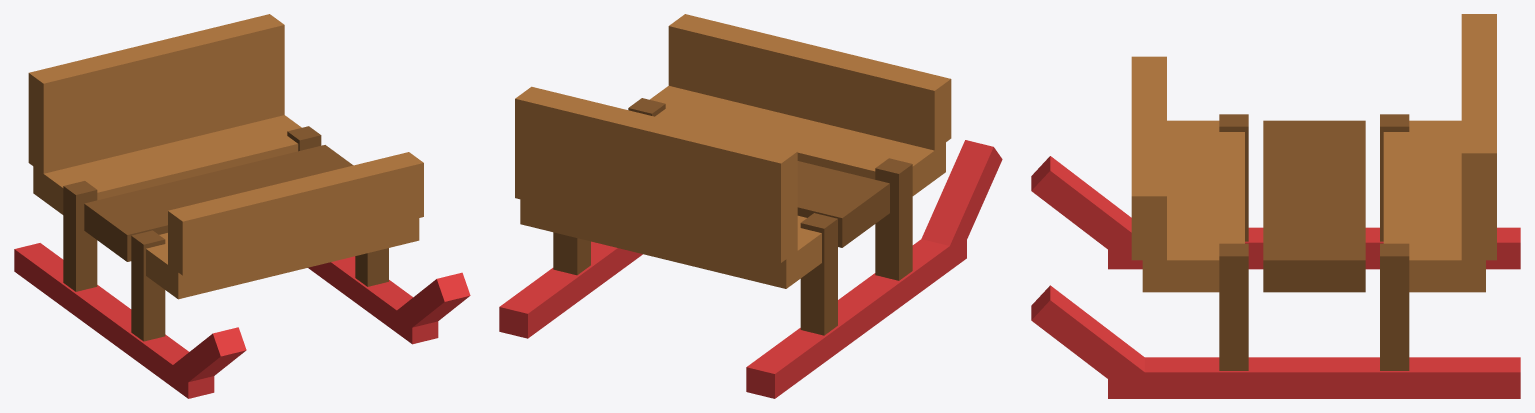
The model's file is sled.glb.
The picture shows the model from 3 angles, left to right: view 1: azimuth 30°, elevation 25°; view 2: azimuth 150°, elevation 25°; view 3: azimuth 270°, elevation 25°; orthographic projection. The views are drawn at different scales.
Parts seen in each view (by area): view 1: sled_rig; view 2: sled_rig; view 3: sled_rig.
Boxes of the visible parts, x1=… form: sled_rig: x1=14, y1=14, x2=470, y2=398; sled_rig: x1=499, y1=14, x2=1002, y2=398; sled_rig: x1=1031, y1=14, x2=1520, y2=398.
Size of the model in its own units: 0.58 by 0.455 by 0.8302.
